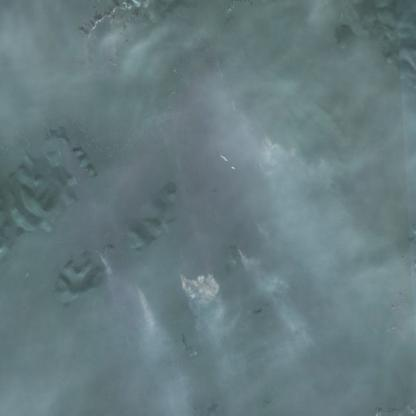fire: (254, 128, 274, 171), (94, 239, 114, 279), (232, 237, 245, 273), (132, 276, 146, 302)
